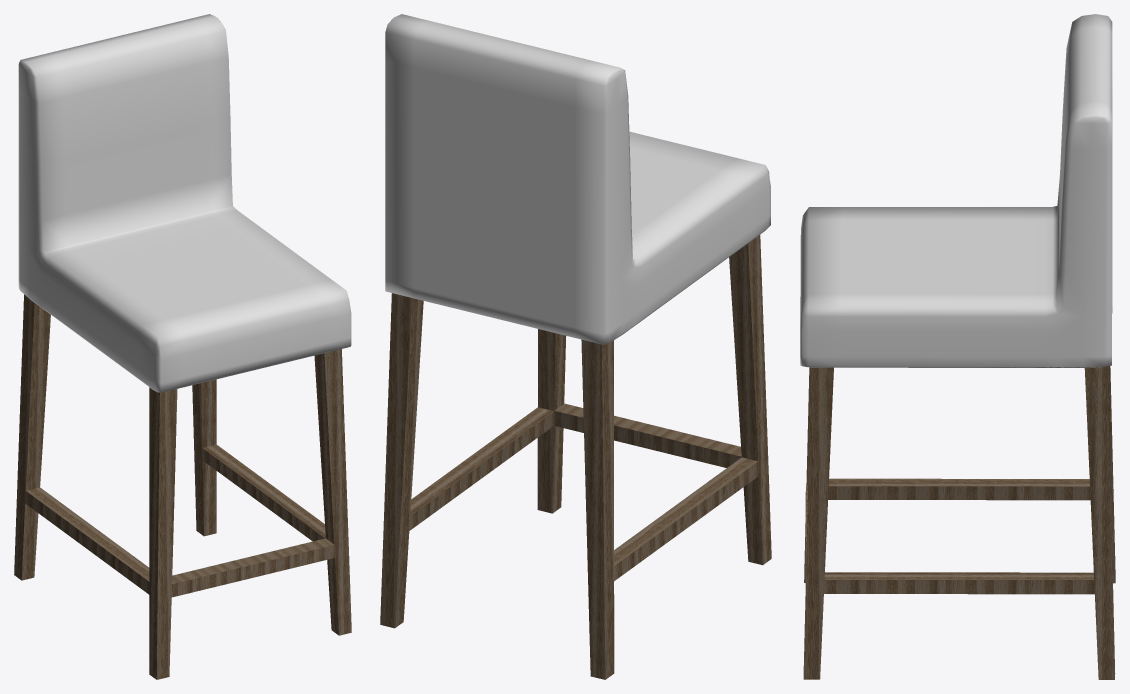
Rendered from ikeaChair.glb.
3 renders of one model, left to right at view 1: azimuth 30°, elevation 25°; view 2: azimuth 150°, elevation 25°; view 3: azimuth 270°, elevation 25°, orthographic. The views are drawn at different scales.
Parts seen in each view (by area): view 1: Box01; view 2: Box01; view 3: Box01.
Part boxes in pixels (left/top/right/bottom): Box01: left=14, top=14, right=351, bottom=679; Box01: left=380, top=14, right=771, bottom=679; Box01: left=800, top=14, right=1115, bottom=679.
Bounding box in the file's own units: 0.4016 × 1.02 × 0.5162.
Materials: 2 (1 with a texture image).
